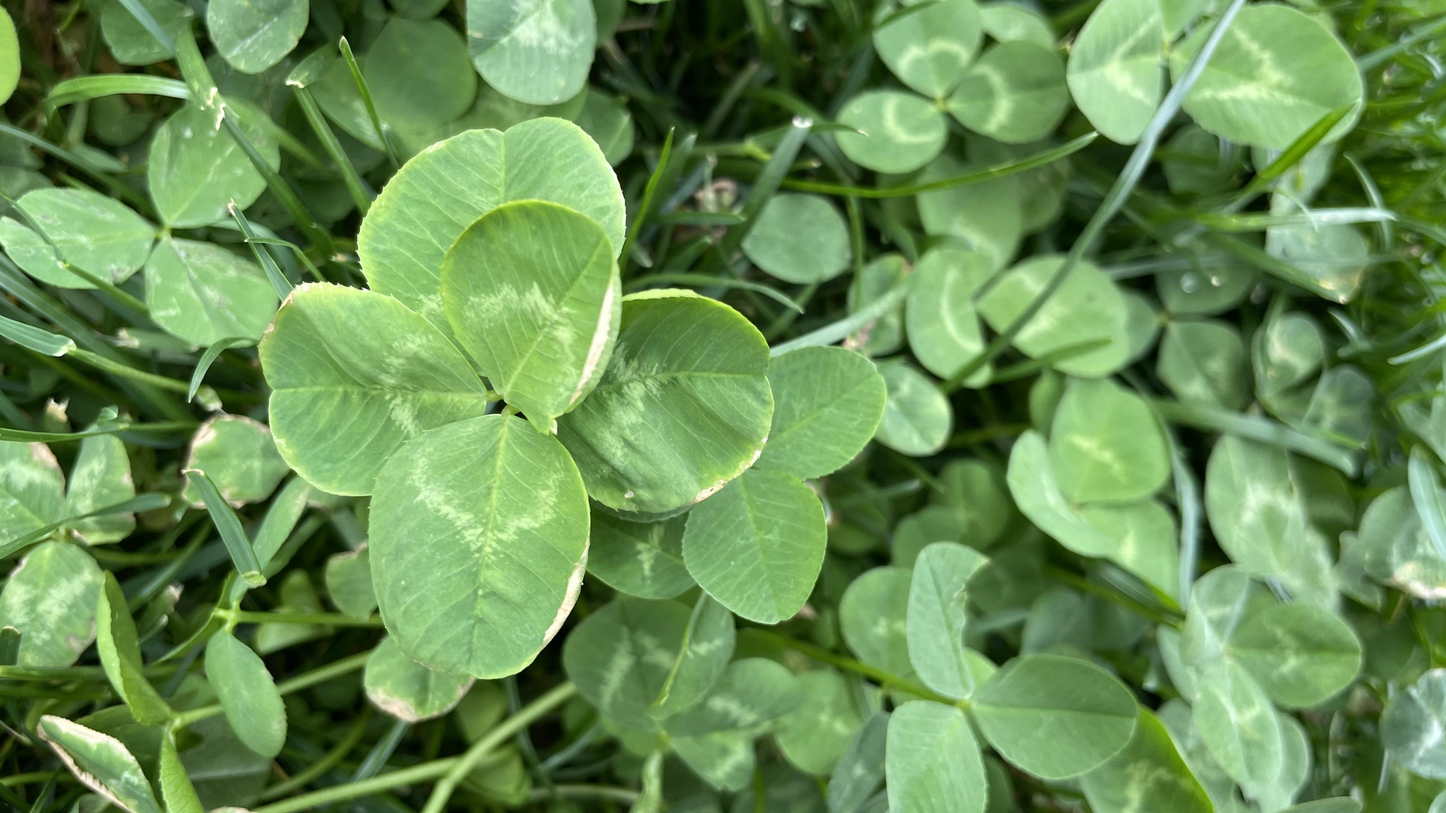5-Leaf-Clovers: (269, 119, 772, 677)
